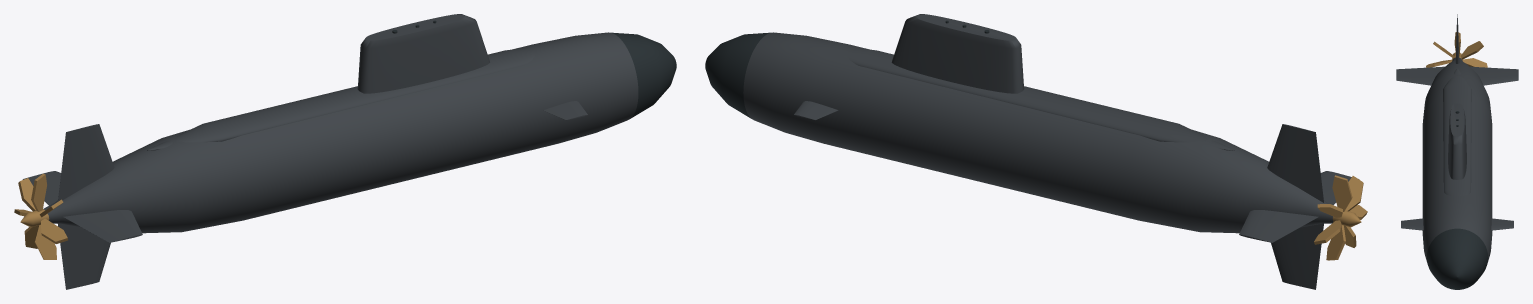
File: rfn_ssk_kilo.glb
3 views of the same model, side by side, from view 1: azimuth 30°, elevation 25°; view 2: azimuth 150°, elevation 25°; view 3: azimuth 270°, elevation 25° (orthographic). The views are drawn at different scales.
Parts seen in each view (by area): view 1: submarine_coating, boot_topping, bronze; view 2: submarine_coating, boot_topping, bronze; view 3: submarine_coating, boot_topping, bronze.
Boxes of the visible parts, bbox=[...] form: submarine_coating: bbox=[22, 14, 638, 289]; boot_topping: bbox=[392, 20, 676, 118]; bronze: bbox=[14, 173, 67, 259]; submarine_coating: bbox=[743, 14, 1359, 289]; boot_topping: bbox=[705, 20, 989, 118]; bronze: bbox=[1314, 175, 1367, 260]; submarine_coating: bbox=[1396, 14, 1518, 262]; boot_topping: bbox=[1427, 111, 1487, 289]; bronze: bbox=[1426, 32, 1487, 67].
Bounding box in the file's own units: 10 × 2.61 × 2.31.
